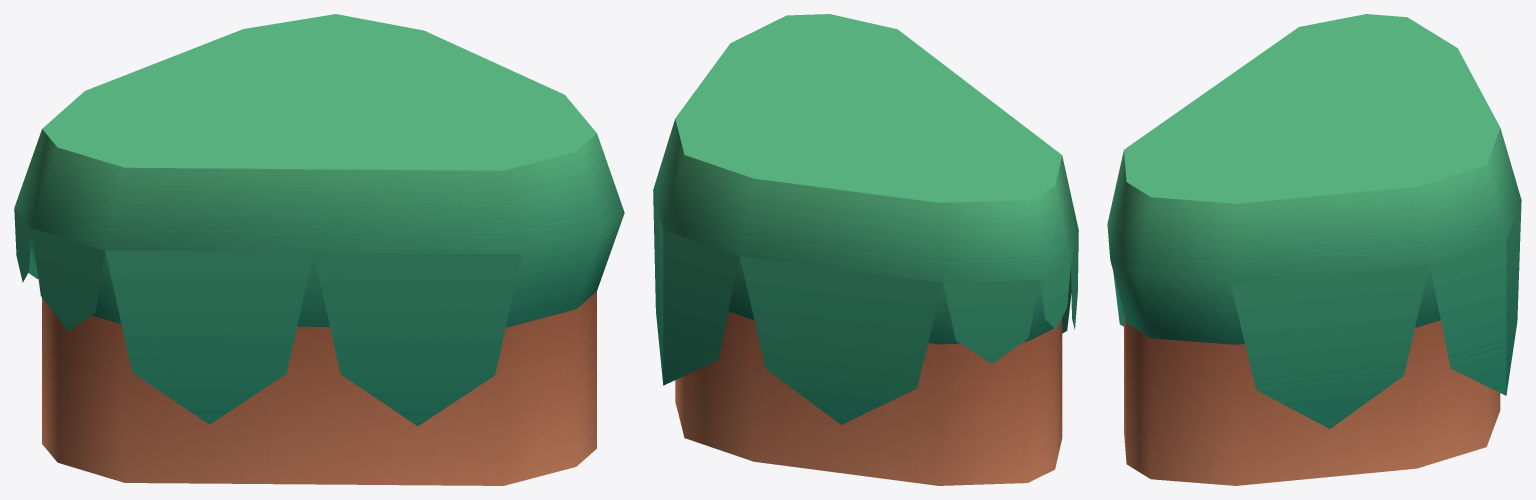
Rendered from block-grass-corner-overhang-low.015_lev2.glb.
3 renders of one model, left to right at view 1: azimuth 30°, elevation 25°; view 2: azimuth 150°, elevation 25°; view 3: azimuth 270°, elevation 25°, orthographic. The views are drawn at different scales.
Parts seen in each view (by area): view 1: block-grass-corner-overhang-low.015_lev2; view 2: block-grass-corner-overhang-low.015_lev2; view 3: block-grass-corner-overhang-low.015_lev2.
Part boxes in pixels (left/top/right/bottom): block-grass-corner-overhang-low.015_lev2: left=14, top=14, right=624, bottom=485; block-grass-corner-overhang-low.015_lev2: left=653, top=14, right=1078, bottom=485; block-grass-corner-overhang-low.015_lev2: left=1107, top=14, right=1521, bottom=485.
Bounding box in the file's own units: 1.79 × 1.13 × 1.5.
1 material, 1 textured.
